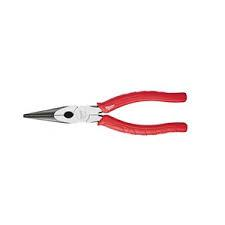pliers: (21, 89, 187, 135)
